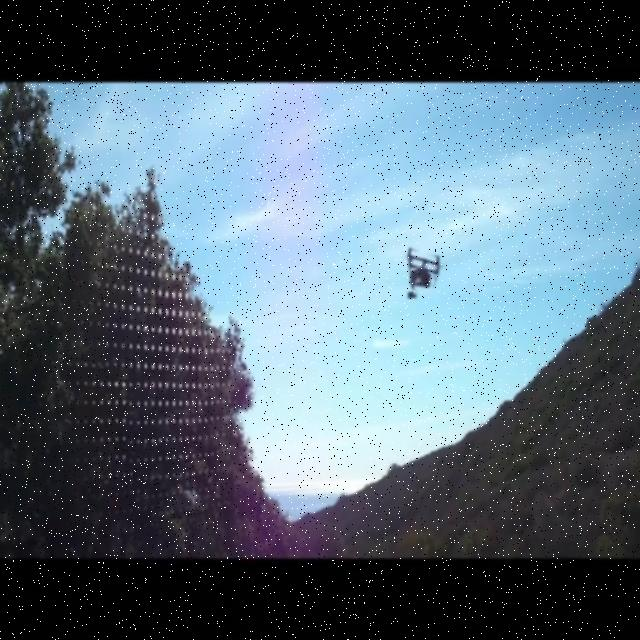UAV: (406, 246, 442, 302)
